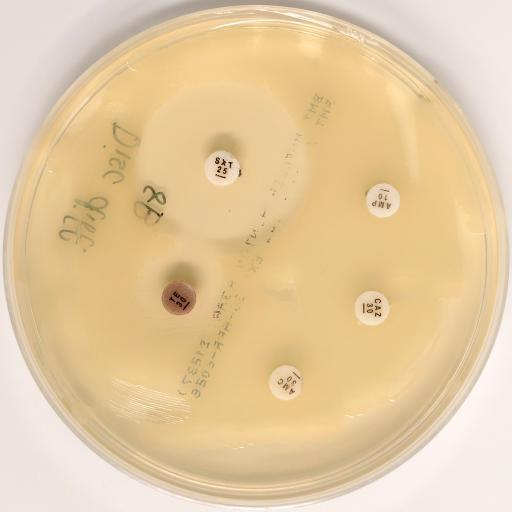disc: (205, 149, 241, 185), (364, 183, 400, 218), (162, 280, 196, 316), (354, 291, 389, 325), (270, 364, 302, 400)
